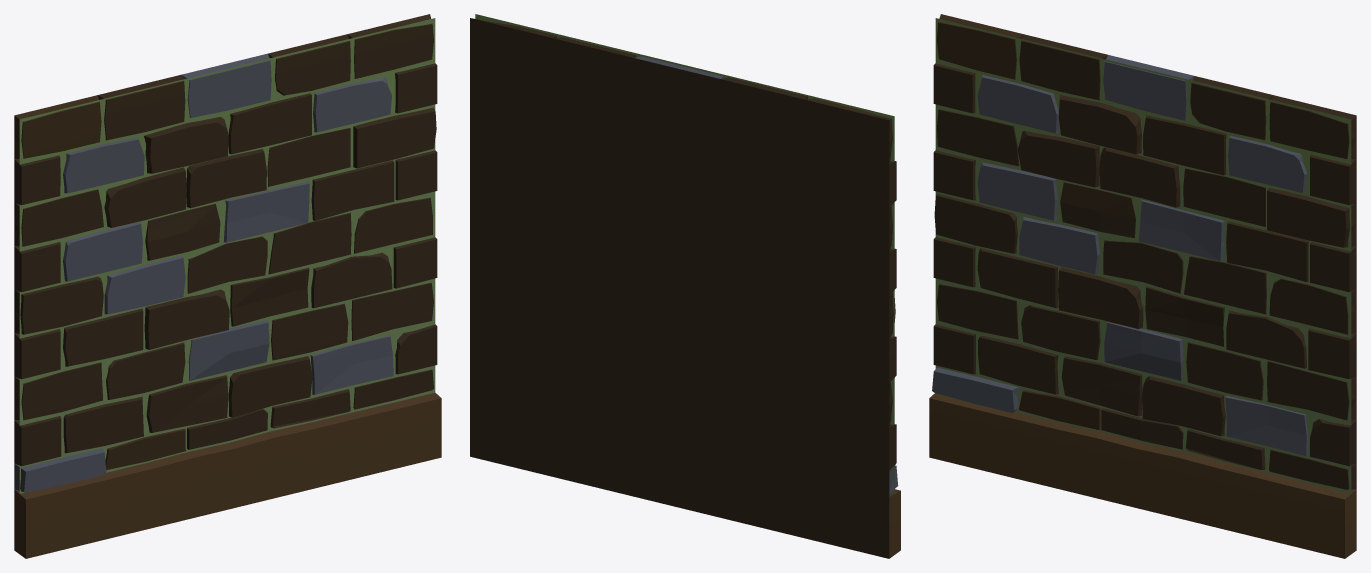
File: Wall_31.fbx
3 views of the same model, side by side, from view 1: azimuth 30°, elevation 25°; view 2: azimuth 150°, elevation 25°; view 3: azimuth 330°, elevation 25° (orthographic).
Parts seen in each view (by area): view 1: Wall_31; view 2: Wall_31; view 3: Wall_31.
Boxes of the visible parts, x1,y1,x2,y2 form: Wall_31: (14,14,441,558); Wall_31: (470,14,900,558); Wall_31: (929,14,1356,558).
Size of the model in its own units: 4 by 4 by 0.194.
